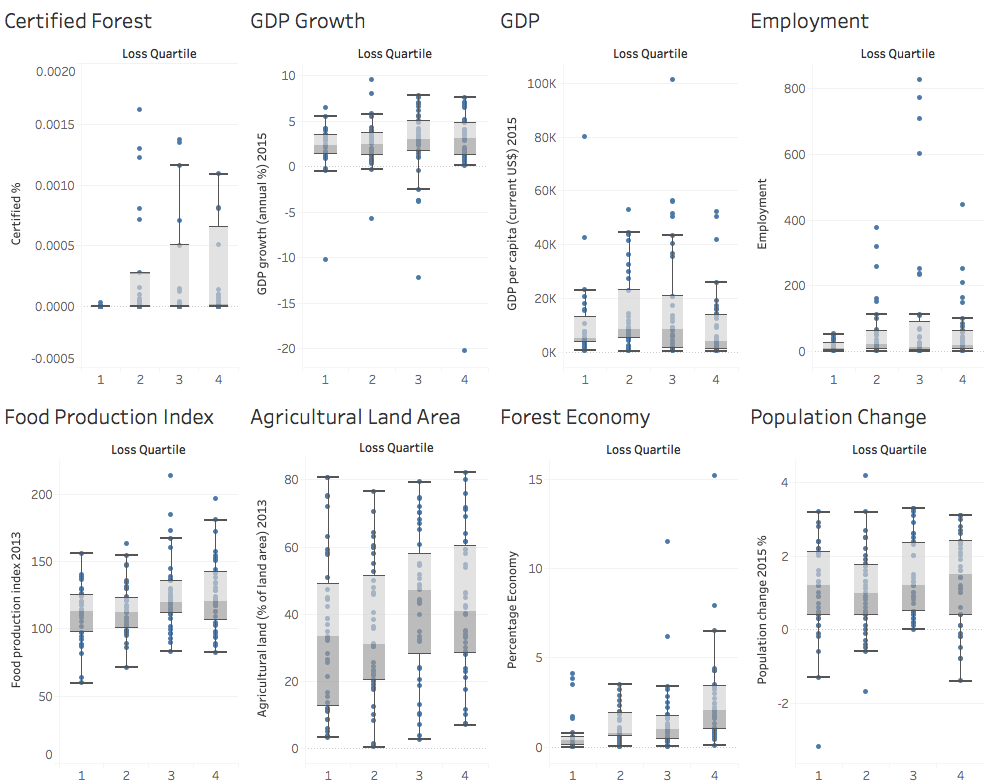

The dashboard page shown, as its layout file describes it:
{"tool":"tableau","page":{"name":"Dashboard 2","canvas":[1000,800],"ordinal":1},"visuals":[{"type":"worksheet","title":"certified","mark":"Circle","rows":["certified_%"],"cols":["loss_quartile"],"box":[0,0,250,400]},{"type":"worksheet","title":"gdp growth","mark":"Circle","rows":["GDP growth (annual %) 2015"],"cols":["loss_quartile"],"box":[250,0,250,400]},{"type":"worksheet","title":"gdp","mark":"Circle","rows":["GDP per capita (current US$) 2015"],"cols":["loss_quartile"],"box":[500,0,250,400]},{"type":"worksheet","title":"employment","mark":"Circle","rows":["employment"],"cols":["loss_quartile"],"box":[750,0,250,400]},{"type":"worksheet","title":"food","mark":"Circle","rows":["Food production index 2013"],"cols":["loss_quartile"],"box":[0,400,250,400]},{"type":"worksheet","title":"agriculture","mark":"Circle","rows":["Agricultural land (% of land area) 2013"],"cols":["loss_quartile"],"box":[250,400,250,400]},{"type":"worksheet","title":"economy","mark":"Circle","rows":["percentage_economy"],"cols":["loss_quartile"],"box":[500,400,250,400]},{"type":"worksheet","title":"population","mark":"Circle","rows":["Population change 2015 %"],"cols":["loss_quartile"],"box":[750,400,250,400]}]}

Visuals, with their boxes in screenshot pixels (x1, y1, x2, y2), scaled from the page's 1000x800 canvas onto the 984x784 screenshot:
"certified" worksheet (Circle marks): left=0, top=0, right=246, bottom=392
"gdp growth" worksheet (Circle marks): left=246, top=0, right=492, bottom=392
"gdp" worksheet (Circle marks): left=492, top=0, right=738, bottom=392
"employment" worksheet (Circle marks): left=738, top=0, right=983, bottom=392
"food" worksheet (Circle marks): left=0, top=392, right=246, bottom=783
"agriculture" worksheet (Circle marks): left=246, top=392, right=492, bottom=783
"economy" worksheet (Circle marks): left=492, top=392, right=738, bottom=783
"population" worksheet (Circle marks): left=738, top=392, right=983, bottom=783
